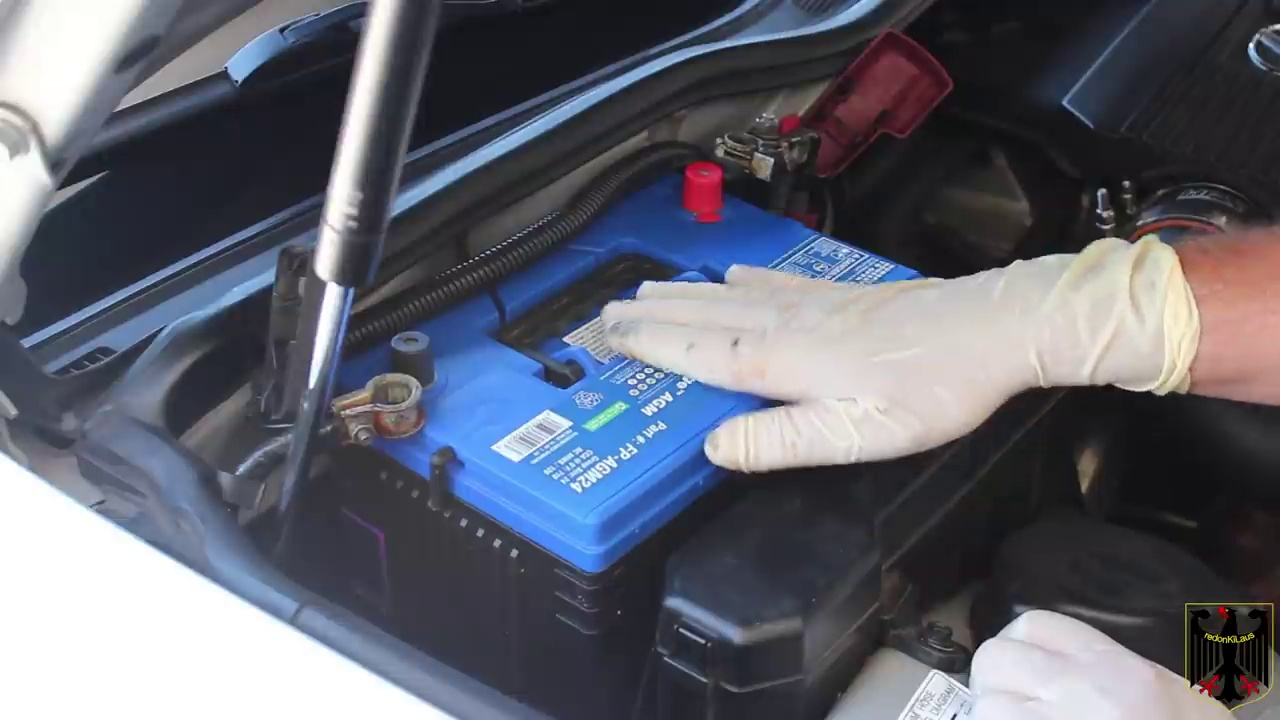battery: (295, 157, 932, 530)
pos_disconnected: (612, 73, 933, 223)
